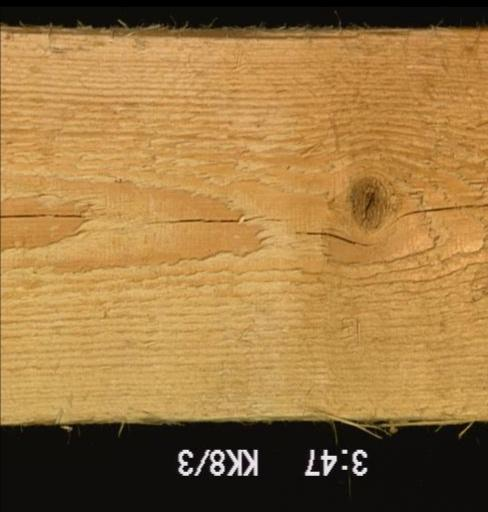sound_knot: (343, 171, 394, 230)
split: (395, 201, 486, 220), (292, 229, 374, 249), (143, 214, 286, 223), (0, 211, 83, 218)
wave: (0, 23, 430, 38)
